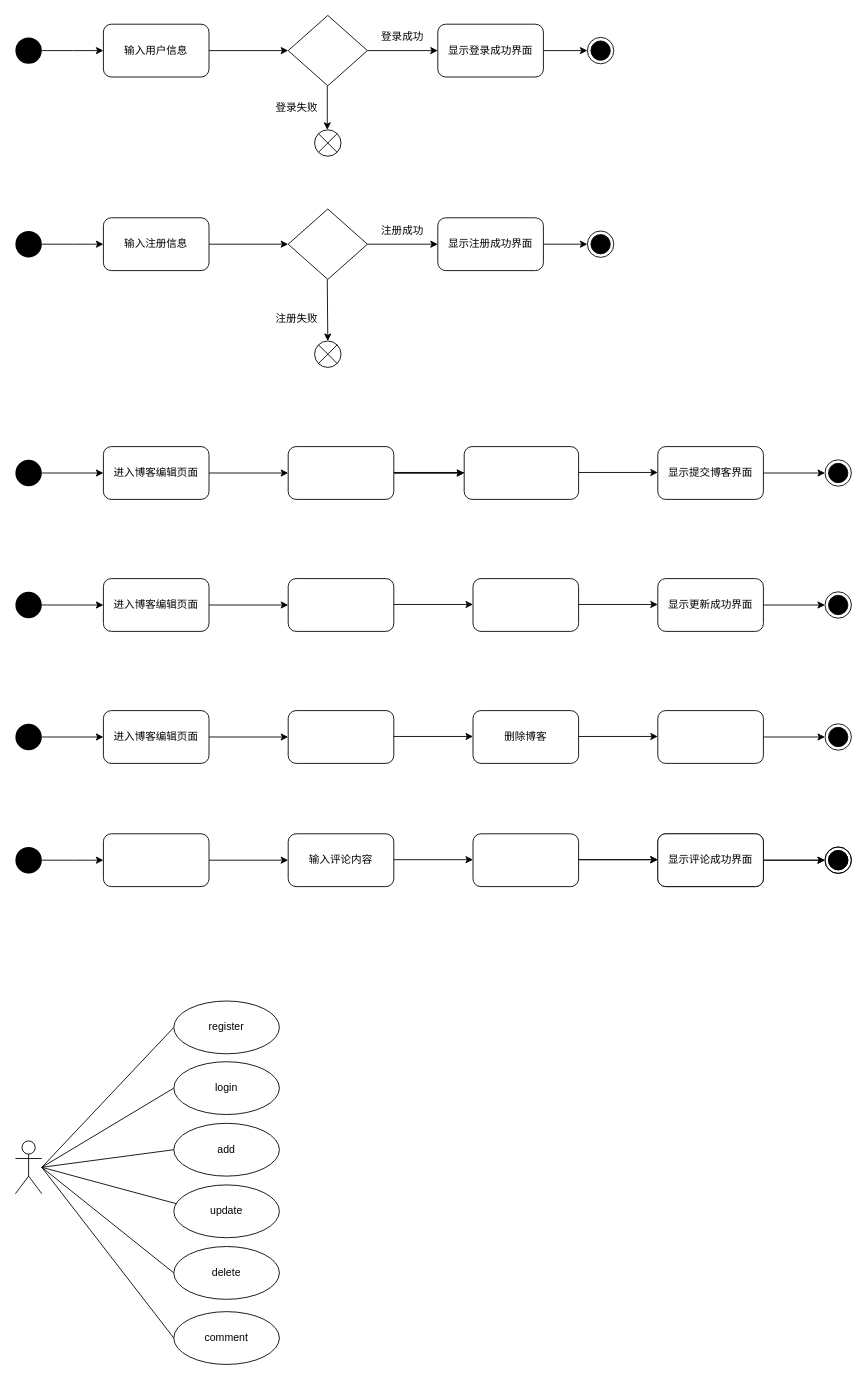
The diagram is 867 pixels wide and 1380 high, and some of its shapes have lost their labels. The centre of each missing label's shape, as x and y in pixels:
Actor: the point at 28,1167
显示删除成功界面: the point at 710,736
更新博客: the point at 525,604
添加博客: the point at 521,472
评论博客: the point at 525,860
输入删除博客ID: the point at 340,736
输入博客内容: the point at 340,472
输入更新内容: the point at 340,604
进入博客评论页面: the point at 156,860
